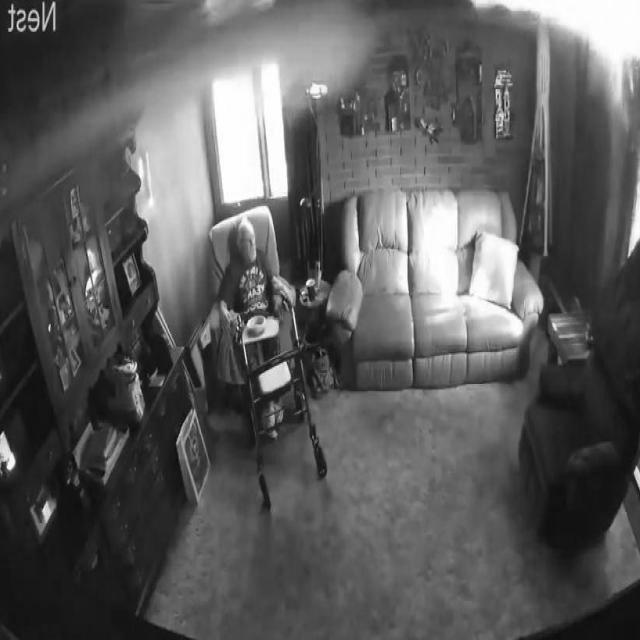smoke: (465, 0, 640, 68)
